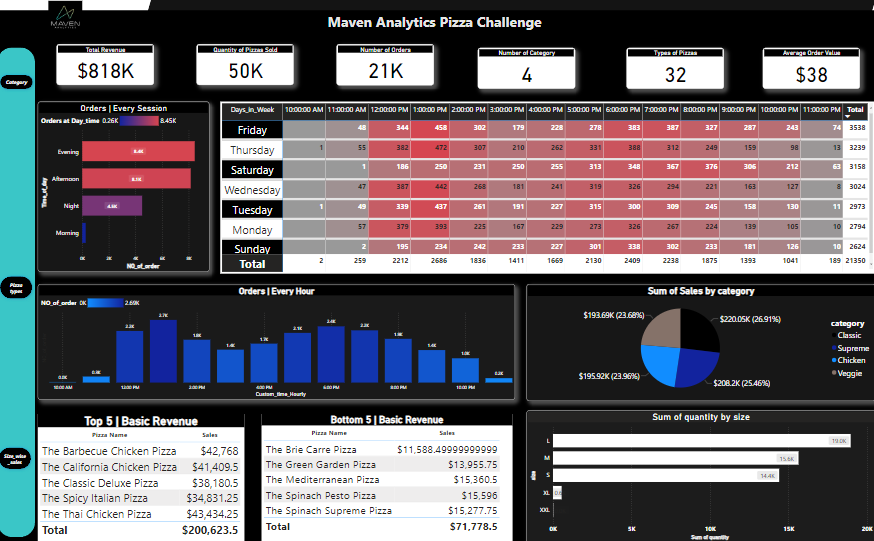

What the dashboard file says about the page in this screenshot:
{"tool":"powerbi","page":{"name":"Category","canvas":[2350,1800],"ordinal":1},"visuals":[{"type":"shape","box":[0,0,2350,1400],"z":0},{"type":"shape","box":[0,60.6,2351.5,1709.1],"z":1000},{"type":"textbox","box":[0,28.6,2350,61.9],"z":2000},{"type":"image","box":[23.8,0,333.3,100],"z":3000},{"type":"card","title":"Total Revenue","fields":{"Values":["Sum(order_details.Sales)"]},"box":[40.9,281.8,259.1,109.1],"z":8000},{"type":"card","title":"Quantity of Pizzas Sold","fields":{"Values":["Sum(order_details.quantity)"]},"box":[395.5,281.8,259.1,109.1],"z":9000},{"type":"card","title":"Number of Orders","fields":{"Values":["order_details.NO_of_order"]},"box":[790.9,281.8,259.1,109.1],"z":10000},{"type":"card","title":"Number of Category","fields":{"Values":["Count(pizza_types.category)"]},"box":[1186.4,281.8,259.1,109.1],"z":11000},{"type":"card","title":"Types of Pizzas","fields":{"Values":["Count(pizza_types.pizza_type_id)"]},"box":[1645.5,281.8,263.6,109.1],"z":12000},{"type":"card","title":"Average Order Value","fields":{"Values":["order_details.Avg_order_value"]},"box":[2050,281.8,259.1,109.1],"z":13000},{"type":"pieChart","fields":{"Y":["Sum(order_details.Sales)"],"Category":["pizza_types.category"]},"box":[1381.8,1006.1,930.3,312.1],"z":14000},{"type":"pivotTable","fields":{"Columns":["orders.Custom_time_Hourly"],"Values":["order_details.NO_of_order"],"Rows":["orders.Days_in_Week"]},"box":[606.1,442.4,1745.5,518.2],"z":15000},{"type":"columnChart","title":"Orders | Every Hour","fields":{"Y":["order_details.NO_of_order"],"Category":["orders.Custom_time_Hourly"]},"box":[42.4,1006.1,1272.7,312.1],"z":16000},{"type":"tableEx","title":"Top 5 | Basic Revenue","fields":{"Values":["pizza_types.name","Sum(order_details.Sales)"]},"box":[42.4,1400,615.2,339.4],"z":17000},{"type":"tableEx","title":"Bottom 5 | Basic Revenue","fields":{"Values":["pizza_types.name","Sum(order_details.Sales)"]},"box":[669.7,1400,669.7,339.4],"z":18000},{"type":"clusteredBarChart","title":"Orders | Every Session","fields":{"Category":["orders.Time_of_day"],"Y":["order_details.NO_of_order"]},"box":[40.9,440.9,527.3,518.2],"z":19000},{"type":"barChart","fields":{"Category":["pizzas.size"],"Y":["Sum(order_details.quantity)"]},"box":[1381.8,1351.5,930.3,387.9],"z":20000},{"type":"slicer","title":"Categories","fields":{"Values":["pizza_types.category"]},"box":[22.7,131.8,2327.3,109.1],"z":20001}]}

Visuals, with their boxes on the page's 2350x1800 design canvas (x1, y1, x2, y2). These are canvas units, not pixel positions in the 874x541 screenshot, which may show the page scaled, cropped or inside an application window:
shape: l=0, t=0, r=2350, b=1400
shape: l=0, t=61, r=2352, b=1770
textbox: l=0, t=29, r=2350, b=90
image: l=24, t=0, r=357, b=100
"Total Revenue" card: l=41, t=282, r=300, b=391
"Quantity of Pizzas Sold" card: l=396, t=282, r=655, b=391
"Number of Orders" card: l=791, t=282, r=1050, b=391
"Number of Category" card: l=1186, t=282, r=1446, b=391
"Types of Pizzas" card: l=1646, t=282, r=1909, b=391
"Average Order Value" card: l=2050, t=282, r=2309, b=391
pieChart - Sum(order_details.Sales) x pizza_types.category: l=1382, t=1006, r=2312, b=1318
pivotTable - orders.Custom_time_Hourly x order_details.NO_of_order: l=606, t=442, r=2352, b=961
"Orders | Every Hour" columnChart: l=42, t=1006, r=1315, b=1318
"Top 5 | Basic Revenue" tableEx: l=42, t=1400, r=658, b=1739
"Bottom 5 | Basic Revenue" tableEx: l=670, t=1400, r=1339, b=1739
"Orders | Every Session" clusteredBarChart: l=41, t=441, r=568, b=959
barChart - pizzas.size x Sum(order_details.quantity): l=1382, t=1352, r=2312, b=1739
"Categories" slicer: l=23, t=132, r=2350, b=241
